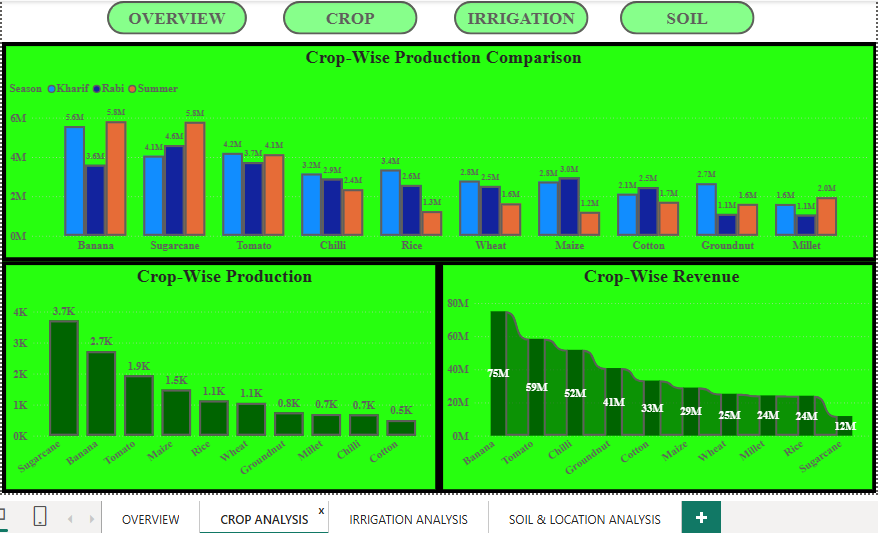

This screenshot's page, from the dashboard's own definition file:
{"tool":"powerbi","page":{"name":"CROP ANALYSIS","canvas":[1280,720],"ordinal":1},"visuals":[{"type":"lineStackedColumnComboChart","title":"Crop-Wise Production","fields":{"Category":["Agriculture_Data.Crop"],"Y":["Sum(Agriculture_Data.Production_Tons)"]},"box":[0,381,639.7,339.7],"z":0},{"type":"ribbonChart","title":"Crop-Wise Revenue","fields":{"Category":["Agriculture_Data.Crop"],"Y":["Sum(Agriculture_Data.Revenue_INR)"]},"box":[639.7,381,639.7,339.7],"z":1000},{"type":"clusteredColumnChart","title":"Crop-Wise Production Comparison","fields":{"Category":["Agriculture_Data.Crop"],"Y":["Sum(Agriculture_Data.Production_Cost_INR)"],"Series":["Agriculture_Data.Season"]},"box":[0,60.3,1281,320.6],"z":2000},{"type":"actionButton","box":[154,0,204.8,49.2],"z":3000},{"type":"actionButton","box":[411.1,0,196.8,49.2],"z":4000},{"type":"actionButton","box":[661.9,0,196.8,49.2],"z":5000},{"type":"actionButton","box":[904.8,0,196.8,49.2],"z":6000}]}

Visuals, with their boxes on the page's 1280x720 design canvas (x1, y1, x2, y2). These are canvas units, not pixel positions in the 878x533 screenshot, which may show the page scaled, cropped or inside an application window:
"Crop-Wise Production" lineStackedColumnComboChart: rect(0, 381, 640, 721)
"Crop-Wise Revenue" ribbonChart: rect(640, 381, 1279, 721)
"Crop-Wise Production Comparison" clusteredColumnChart: rect(0, 60, 1281, 381)
actionButton: rect(154, 0, 359, 49)
actionButton: rect(411, 0, 608, 49)
actionButton: rect(662, 0, 859, 49)
actionButton: rect(905, 0, 1102, 49)
